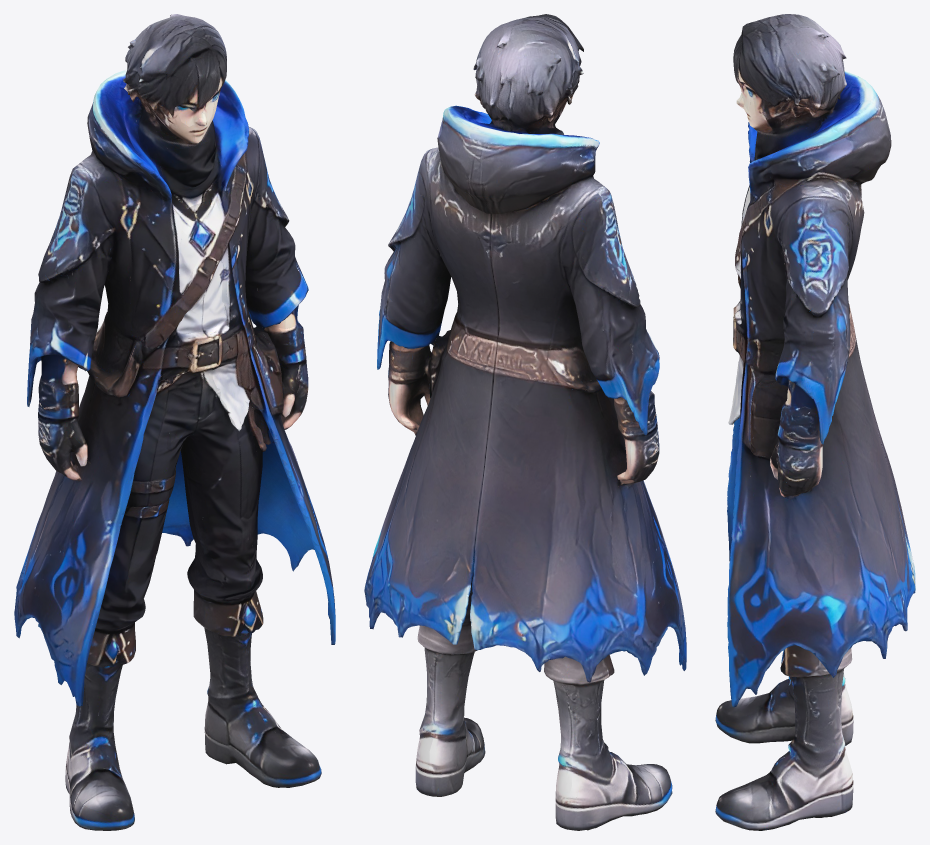
The model's file is coat.glb.
The picture shows the model from 3 angles, left to right: view 1: azimuth 30°, elevation 25°; view 2: azimuth 150°, elevation 25°; view 3: azimuth 270°, elevation 25°; orthographic projection.
Parts seen in each view (by area): view 1: Mesh; view 2: Mesh; view 3: Mesh.
Part boxes in pixels (x1=…): Mesh: x1=14, y1=14, x2=335, y2=830; Mesh: x1=364, y1=14, x2=686, y2=830; Mesh: x1=715, y1=14, x2=915, y2=830.
Size of the model in its own units: 0.7351 by 1.88 by 0.4511.
Materials: 1 (1 with a texture image).
